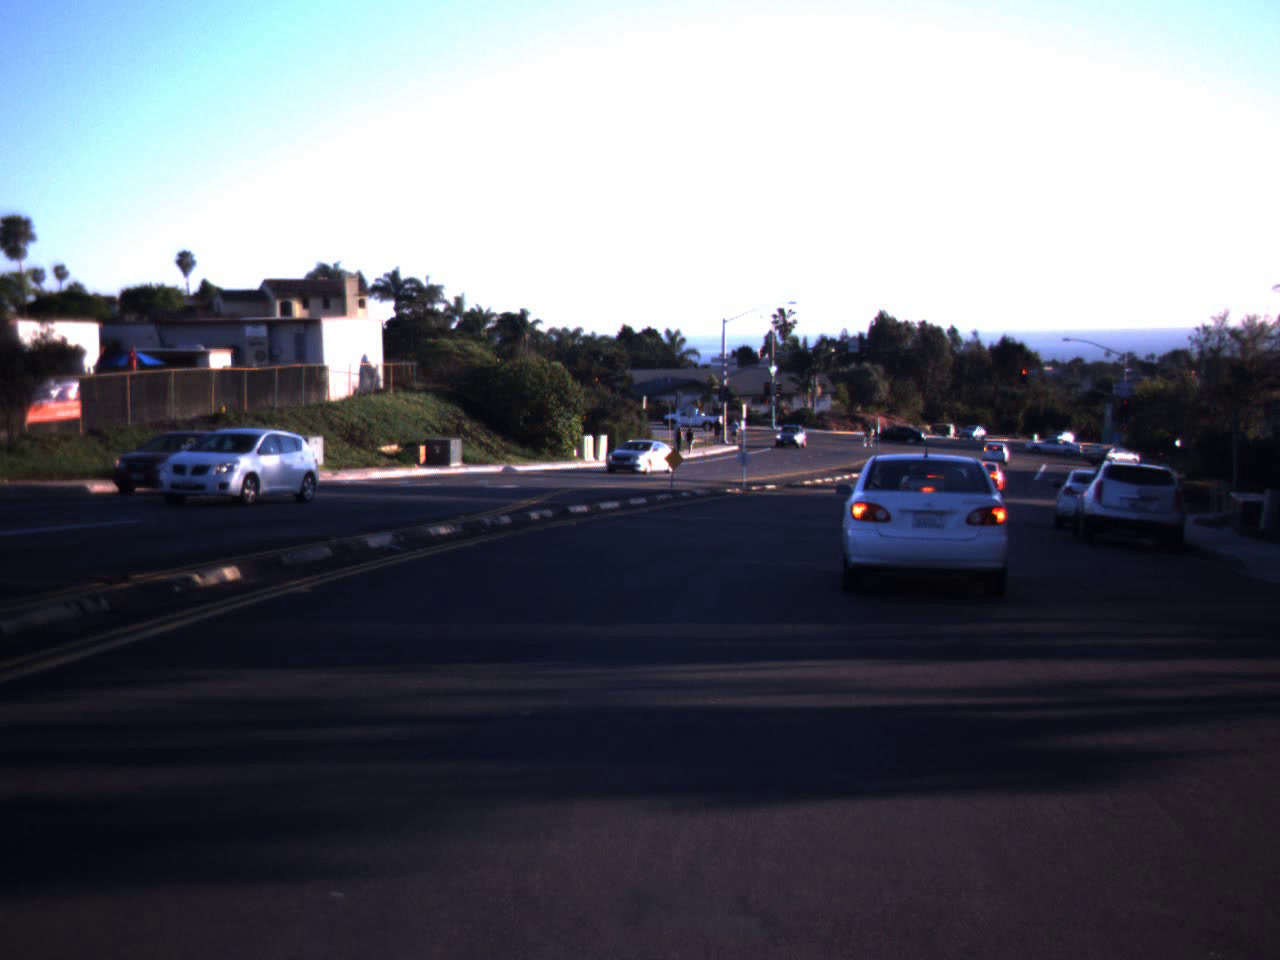stop: (1018, 368, 1030, 386)
